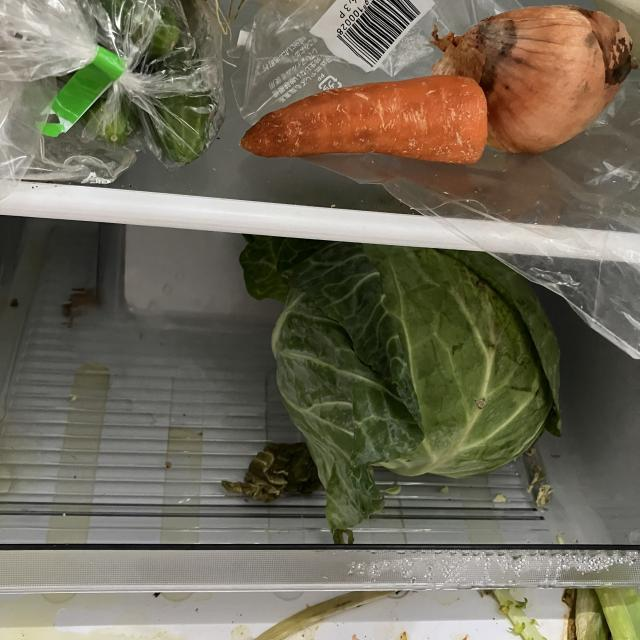cabbage: (238, 232, 570, 532)
carrot: (238, 74, 491, 169)
onion: (436, 4, 636, 156)
